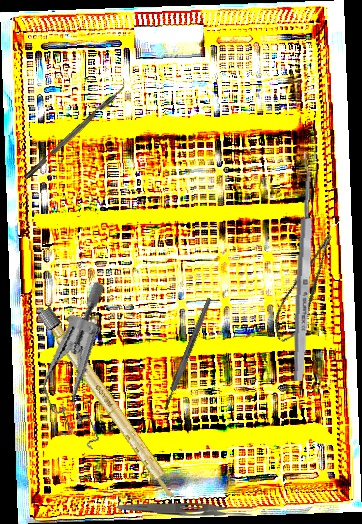Chopper: (19, 77, 131, 180)
Dressing Forceps: (116, 501, 255, 519)
Micro Scissor: (263, 231, 352, 347)
Scalpel Handle: (37, 306, 182, 503), (161, 297, 214, 411)
Speculum: (14, 279, 152, 461)
Surgical Spoon: (291, 151, 318, 382)
